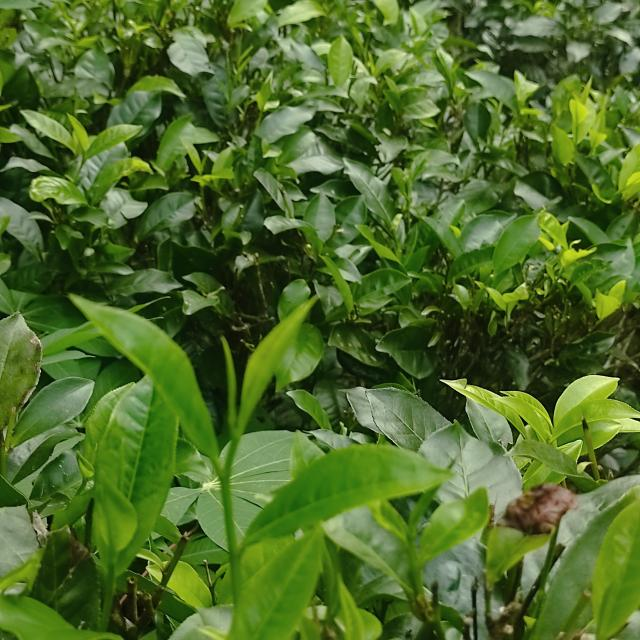unopened_leaf: (211, 327, 246, 441)
